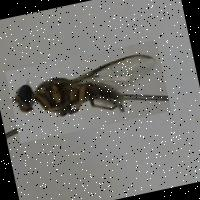Oriental-fruit-fly: (5, 40, 171, 142)
